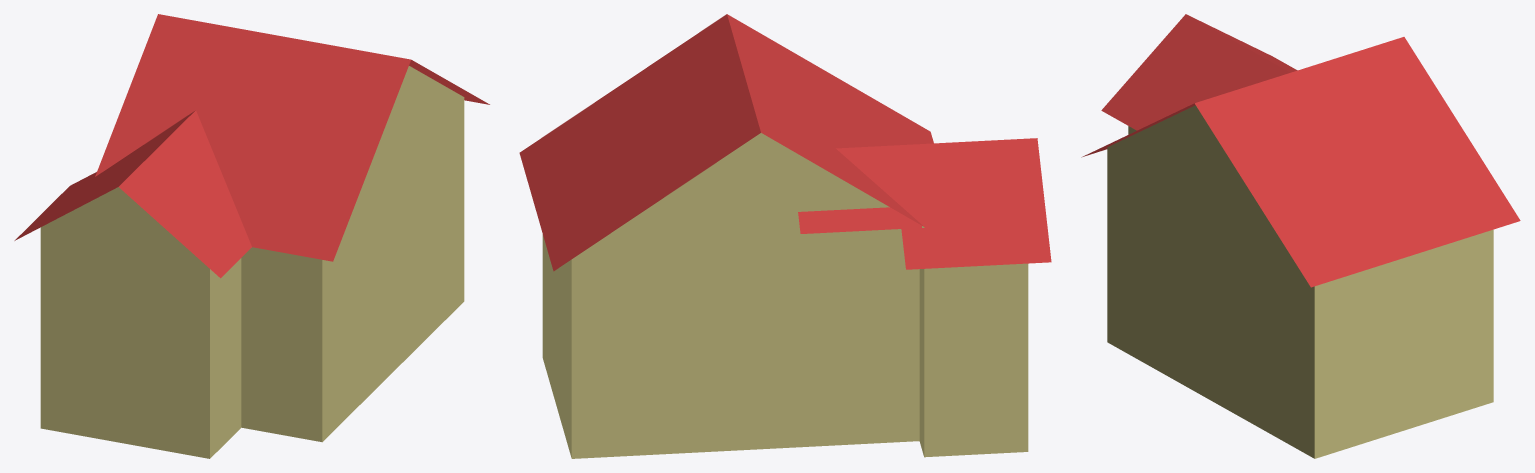
The picture shows the model from 3 angles, left to right: view 1: azimuth 30°, elevation 25°; view 2: azimuth 150°, elevation 25°; view 3: azimuth 270°, elevation 25°; orthographic projection. The views are drawn at different scales.
Bounding box in the file's own units: 21.25 × 17.1 × 12.92.
